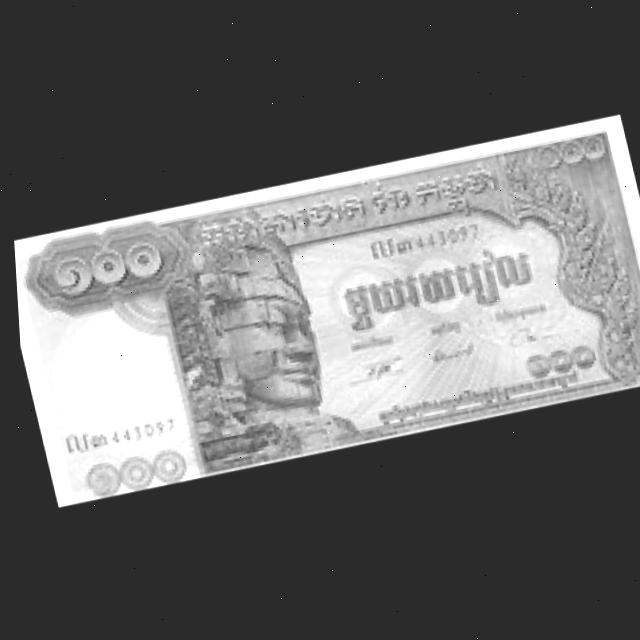banknote: (6, 118, 640, 504)
